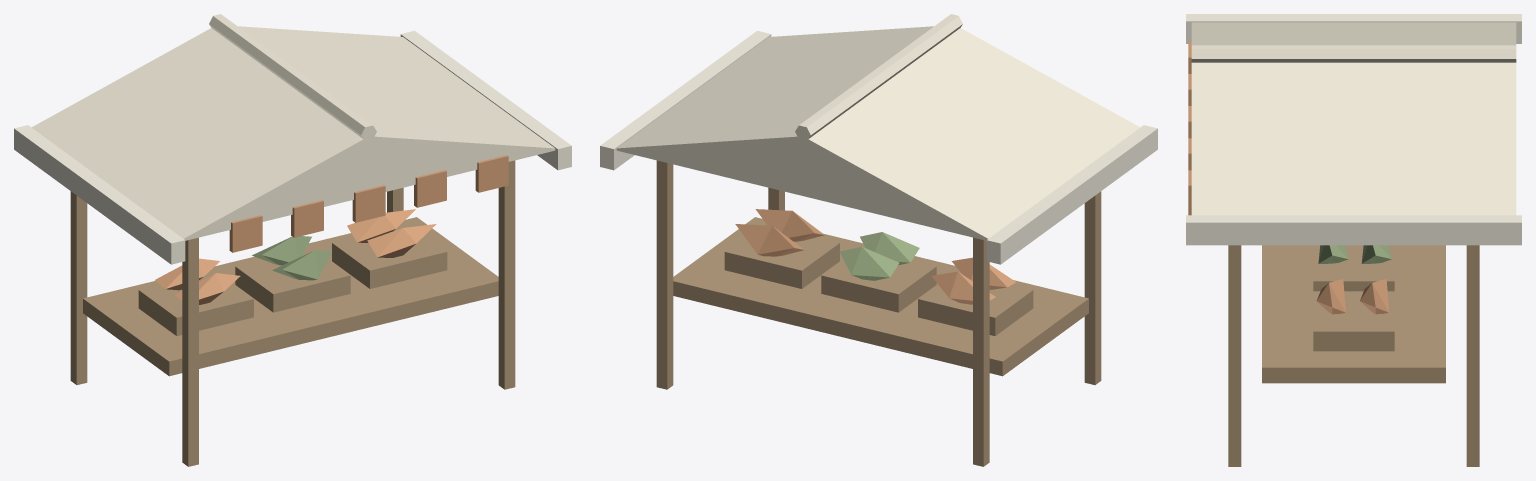
3 renders of one model, left to right at view 1: azimuth 30°, elevation 25°; view 2: azimuth 150°, elevation 25°; view 3: azimuth 270°, elevation 25°, orthographic. The views are drawn at different scales.
Size of the model in its own units: 4.56 by 3.41 by 3.1.
